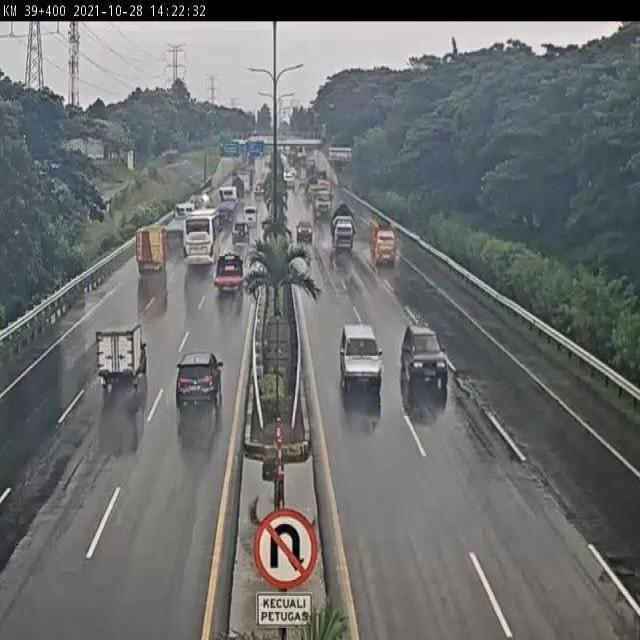bus-l-: (180, 208, 222, 269)
car: (339, 320, 385, 391), (400, 320, 448, 388), (96, 326, 146, 386), (175, 352, 219, 408), (293, 217, 314, 243), (241, 204, 259, 228), (231, 221, 250, 243)
small truck: (366, 215, 398, 264), (330, 204, 358, 256)
truck-l-: (313, 186, 334, 222)
truck-s-: (132, 227, 166, 274), (214, 252, 248, 297)
truck-xl-: (161, 202, 198, 238)
